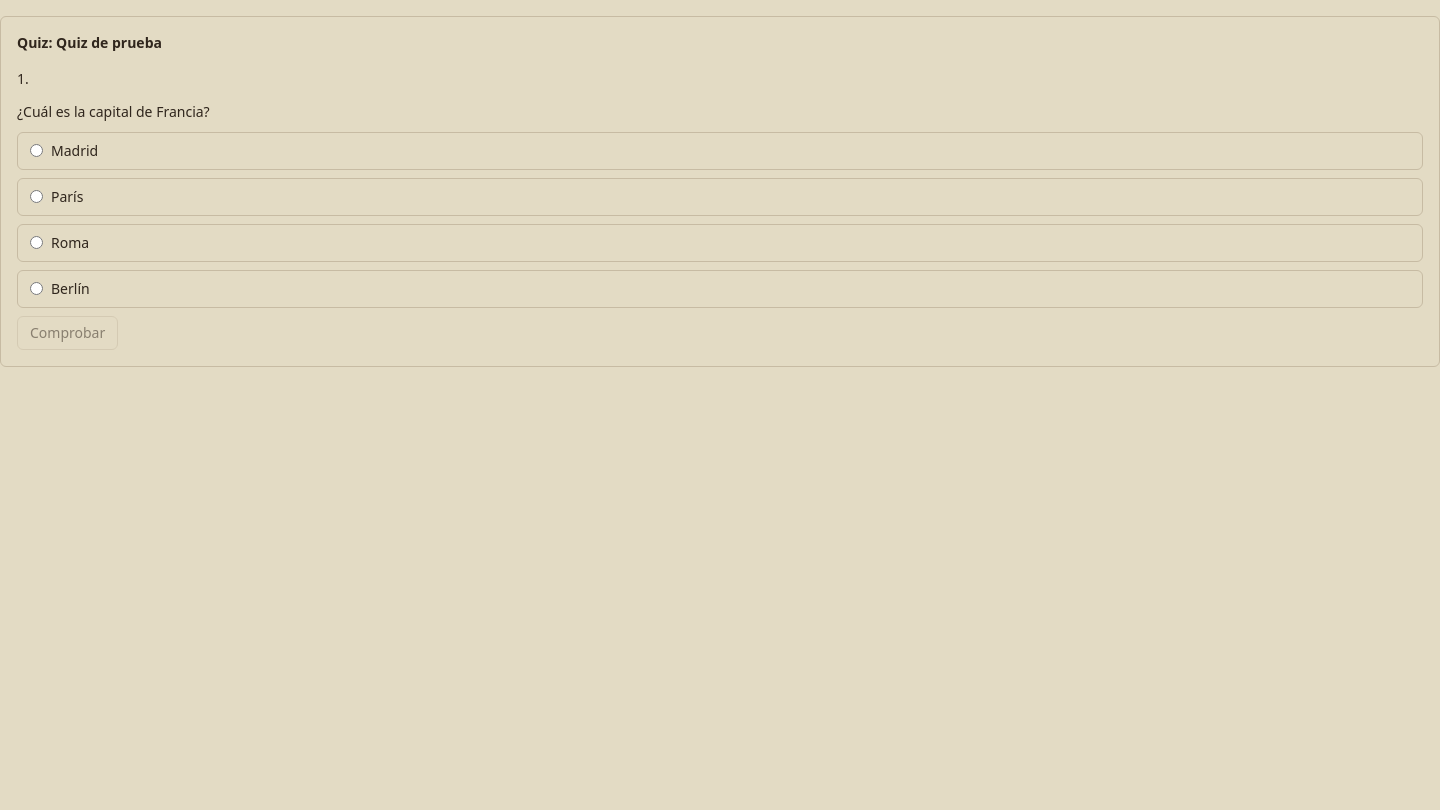
QuizCard — CA-11: corrección inmediata + explicación (tipo 'single') › responder INCORRECTAMENTE indica 'Incorrecta' y TAMBIÉN muestra la explicación
The width and height of the screenshot is (1440, 810).
Click the radio button labelled "Madrid" at (36, 151), box [30,144,43,157]
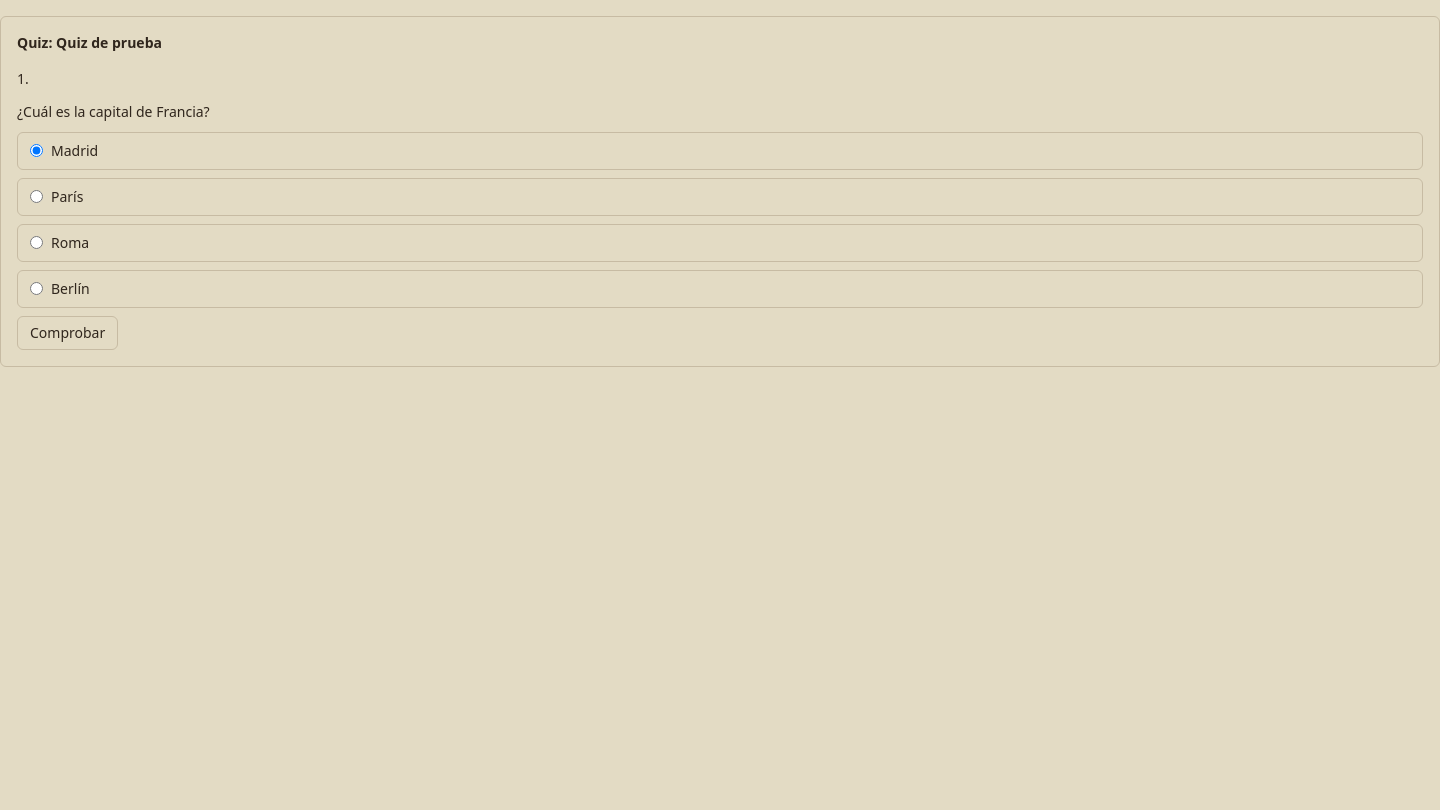
Click the button "Comprobar" at (68, 333), box [17,316,118,350]
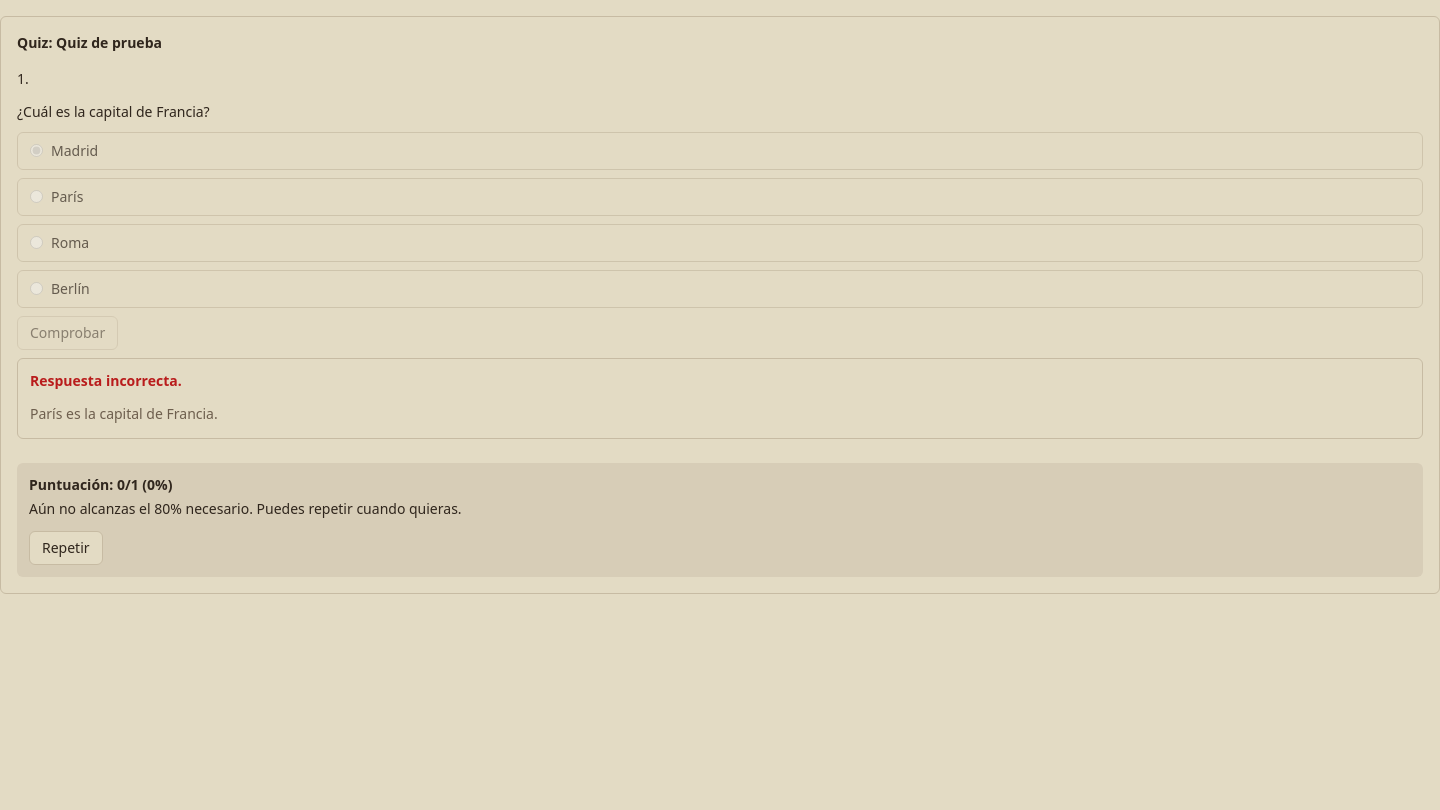
Check: the text "Respuesta incorrecta." is shown, box [30,371,182,390]
Check: the text "París es la capital de Francia." is shown, box [30,404,218,423]
